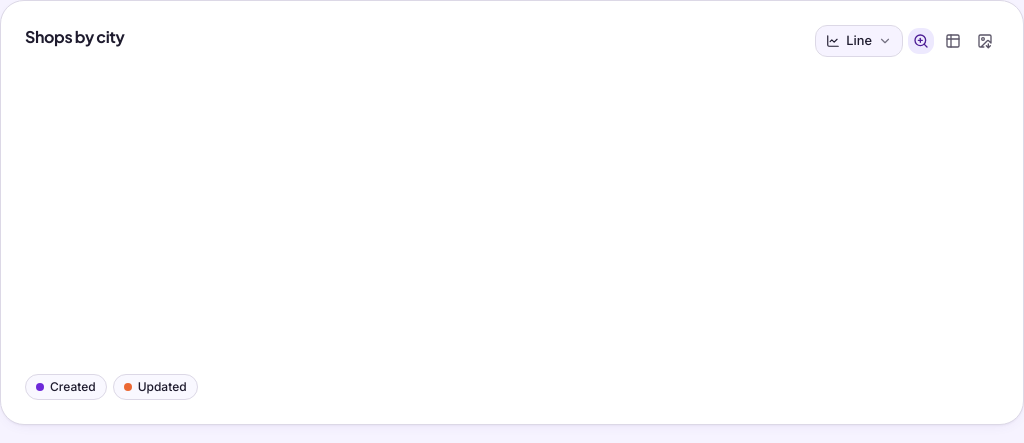
Test: ChartCard › hides and shows a series from the legend
Click the button "Created".
click(66, 387)  # box [25, 374, 107, 400]
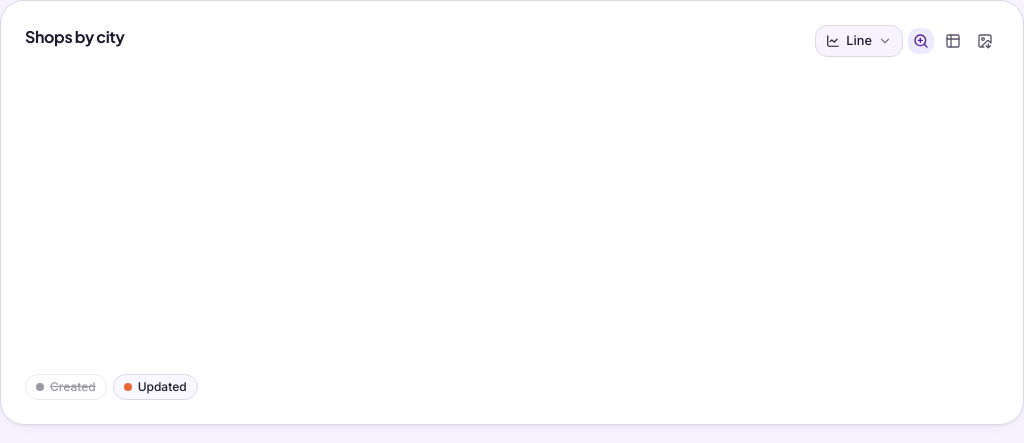
Expected: the button "Created" is not pressed, [25, 374, 107, 400]
Click the button "Updated".
click(155, 387)  # box [113, 374, 198, 400]
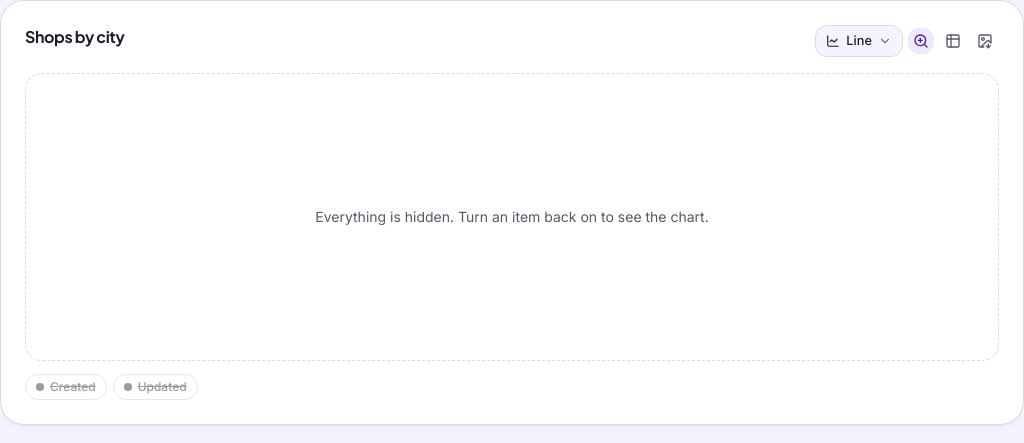
Expected: the text "Everything is hidden. Turn an item back on to see the chart." is shown
